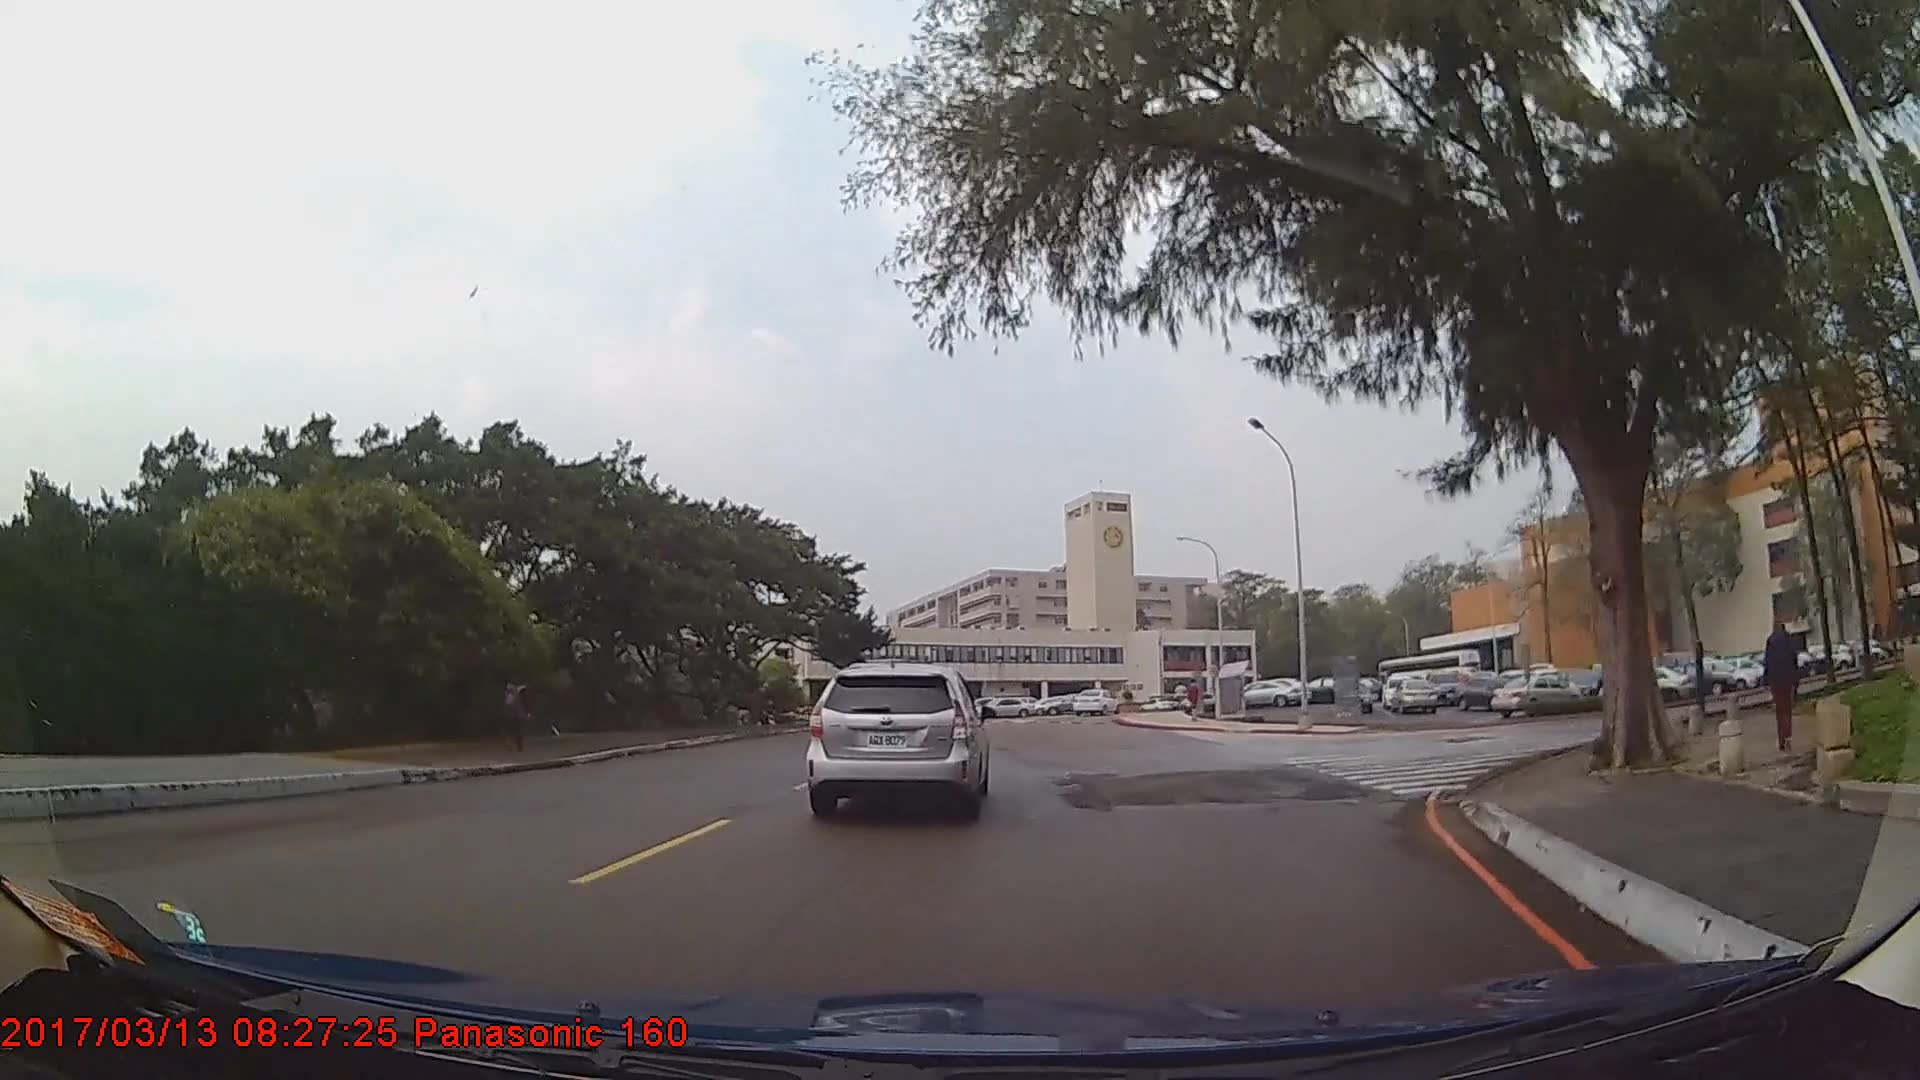pedestrian: (1765, 620, 1810, 754), (493, 670, 533, 753)
vehicle: (809, 660, 988, 819), (1489, 673, 1584, 720), (1453, 672, 1527, 711), (1233, 682, 1302, 708), (1391, 679, 1437, 716), (974, 696, 1039, 720), (1425, 671, 1465, 708), (1072, 686, 1119, 716), (1338, 683, 1371, 712)
